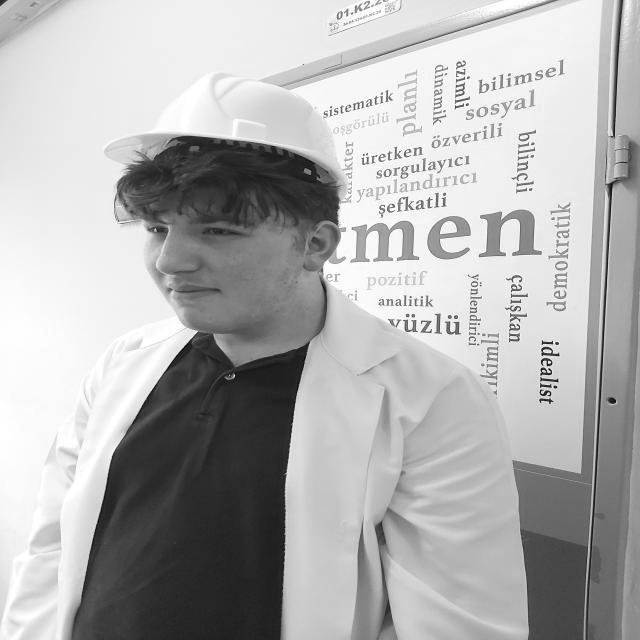construction helmet: (104, 75, 342, 208)
